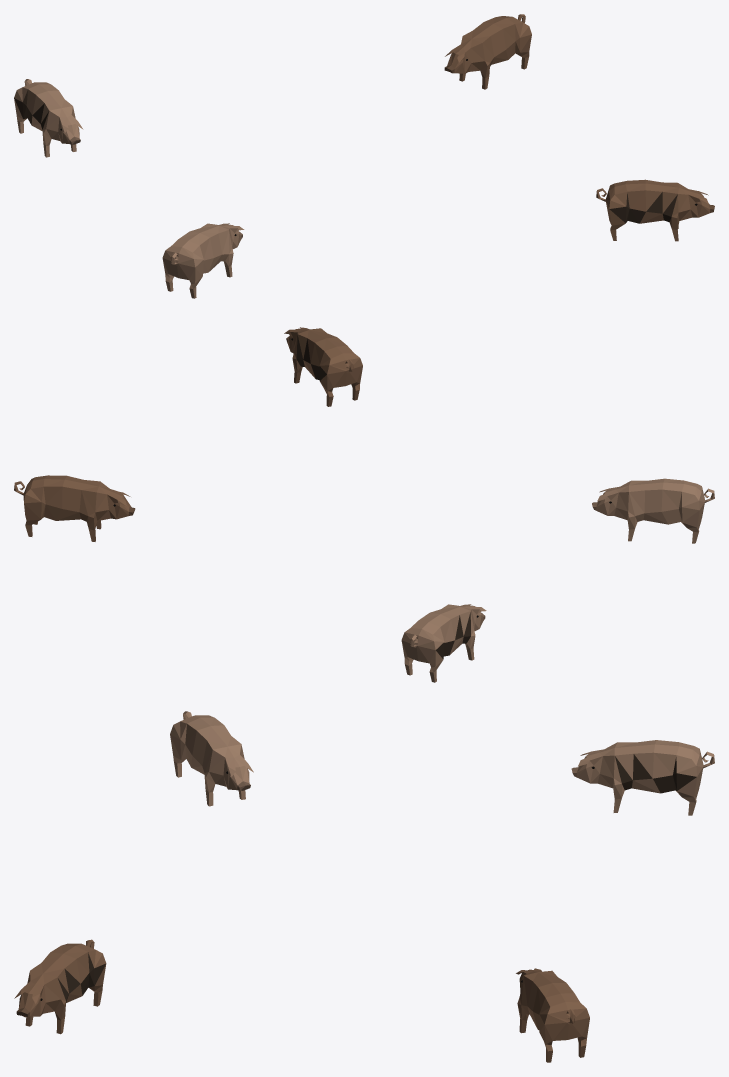
The model's file is pigs2.glb.
3 renders of one model, top to bottom at view 1: azimuth 30°, elevation 25°; view 2: azimuth 150°, elevation 25°; view 3: azimuth 270°, elevation 25°, orthographic. The views are drawn at different scales.
Parts seen in each view (by area): view 1: pigs2; view 2: pigs2; view 3: pigs2.
Part boxes in pixels (x1,y1,x2,y2): pigs2: (14,14,714,298); pigs2: (14,327,714,682); pigs2: (14,711,714,1062).
Size of the model in its own units: 45.37 by 4.29 by 44.27.
